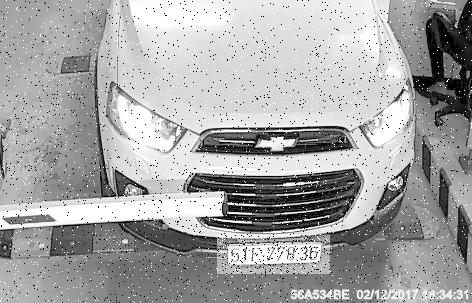License-plate: (218, 235, 331, 275)
